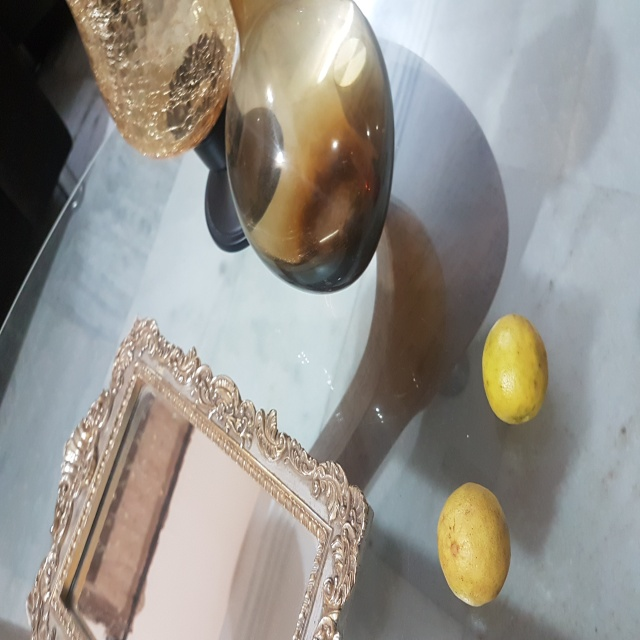lemon: (429, 480, 522, 610), (477, 316, 565, 431)
